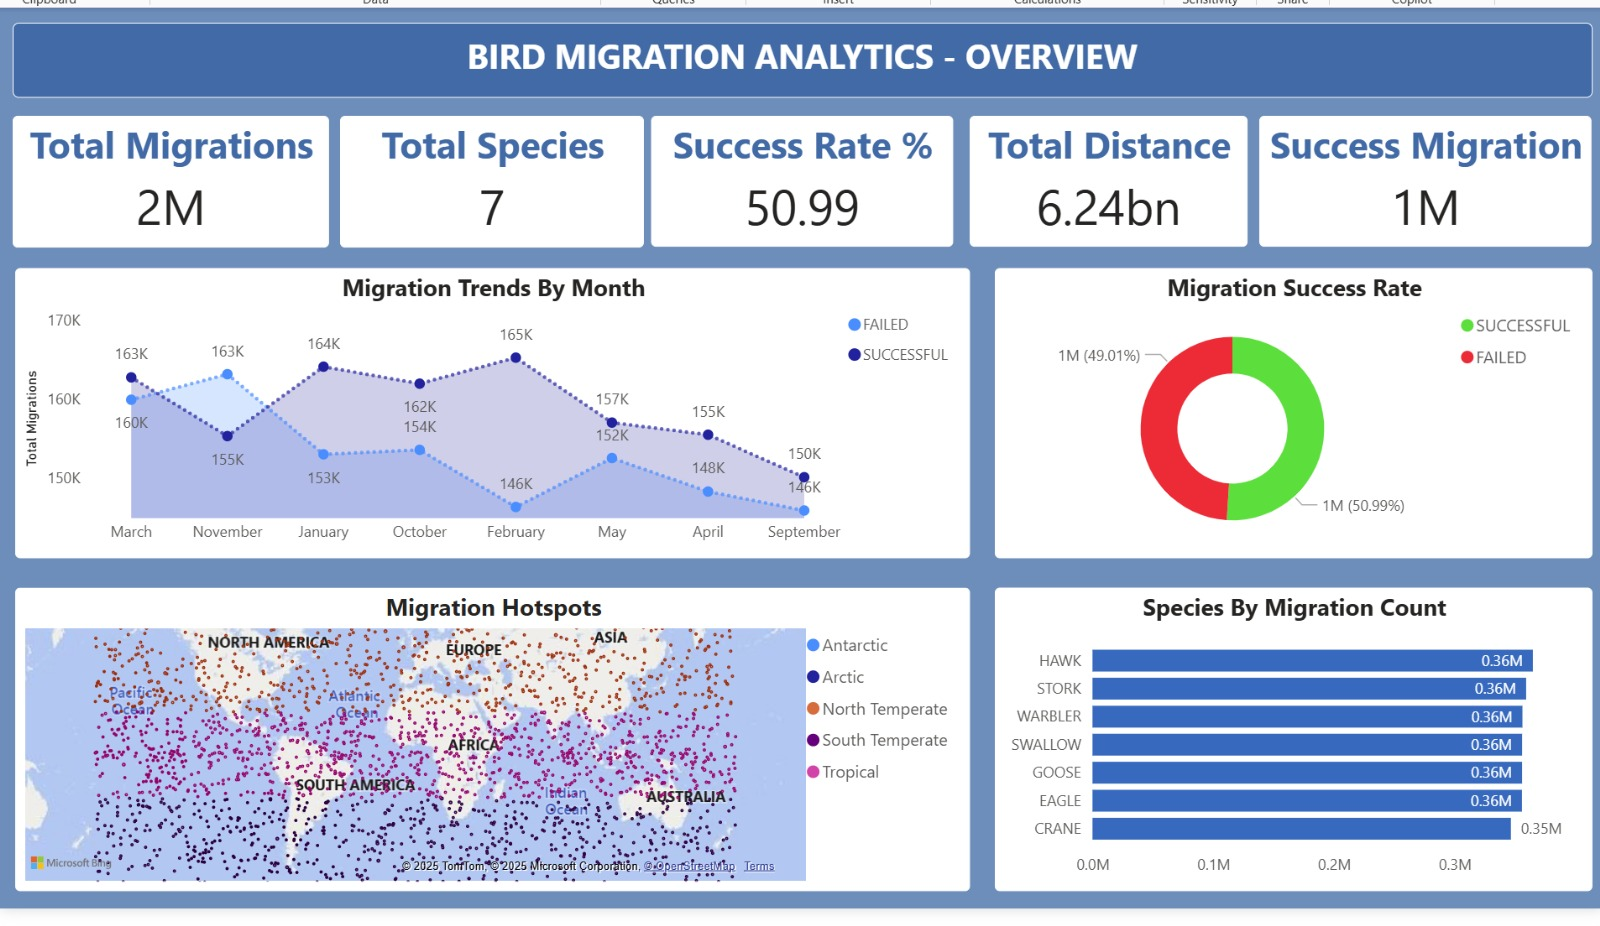

This screenshot's page, from the dashboard's own definition file:
{"tool":"powerbi","page":{"name":"Overview","canvas":[1280,720],"ordinal":0},"visuals":[{"type":"textbox","box":[9.7,12.1,1261.9,60.3],"z":0},{"type":"card","title":"Total Migrations","fields":{"Values":["BIRD_MIGRATION_RAW.Total Migrations"]},"box":[9.6,86.4,252.5,105.7],"z":1000},{"type":"card","title":"Total Species","fields":{"Values":["BIRD_MIGRATION_RAW.Total Species"]},"box":[271.7,86.4,242.9,105.7],"z":2000},{"type":"card","title":"Success Rate %","fields":{"Values":["BIRD_MIGRATION_RAW.Success Rate %"]},"box":[520,86.9,241.3,105],"z":3000},{"type":"card","title":"Success Migration","fields":{"Values":["BIRD_MIGRATION_RAW.Successful Migrations"]},"box":[1006.2,86.9,265.4,105],"z":4000},{"type":"card","title":"Total Distance","fields":{"Values":["BIRD_MIGRATION_RAW.Total Distance (km)"]},"box":[774.5,86.9,222,105],"z":5000},{"type":"lineChart","title":"Migration Trends By Month","fields":{"Category":["DIM_DATE.MONTH_NAME"],"Y":["BIRD_MIGRATION_RAW.Total Migrations"],"Series":["FACT_BIRD_MIGRATION.MIGRATION_SUCCESS"]},"box":[12.3,208.6,763,231.9],"z":6000},{"type":"donutChart","title":"Migration Success Rate","fields":{"Y":["BIRD_MIGRATION_RAW.Total Migrations"],"Category":["FACT_BIRD_MIGRATION.MIGRATION_SUCCESS"]},"box":[794.5,208.6,477.5,231.9],"z":7000},{"type":"barChart","title":"Species By Migration Count","fields":{"Y":["BIRD_MIGRATION_RAW.Total Migrations"],"Category":["DIM_BIRD.SPECIES"]},"box":[794.5,463.8,477.5,242.9],"z":8000},{"type":"map","title":"Migration Hotspots","fields":{"Size":["BIRD_MIGRATION_RAW.Total Migrations"],"Category":["DIM_LOCATION.LOCATION_NAME"],"Series":["DIM_LOCATION.CLIMATE_ZONE"]},"box":[12.3,463.8,763,242.9],"z":9000}]}

Visuals, with their boxes on the page's 1280x720 design canvas (x1, y1, x2, y2). These are canvas units, not pixel positions in the 1600x926 screenshot, which may show the page scaled, cropped or inside an application window:
textbox: bbox=(10, 12, 1272, 72)
"Total Migrations" card: bbox=(10, 86, 262, 192)
"Total Species" card: bbox=(272, 86, 515, 192)
"Success Rate %" card: bbox=(520, 87, 761, 192)
"Success Migration" card: bbox=(1006, 87, 1272, 192)
"Total Distance" card: bbox=(774, 87, 996, 192)
"Migration Trends By Month" lineChart: bbox=(12, 209, 775, 440)
"Migration Success Rate" donutChart: bbox=(794, 209, 1272, 440)
"Species By Migration Count" barChart: bbox=(794, 464, 1272, 707)
"Migration Hotspots" map: bbox=(12, 464, 775, 707)
